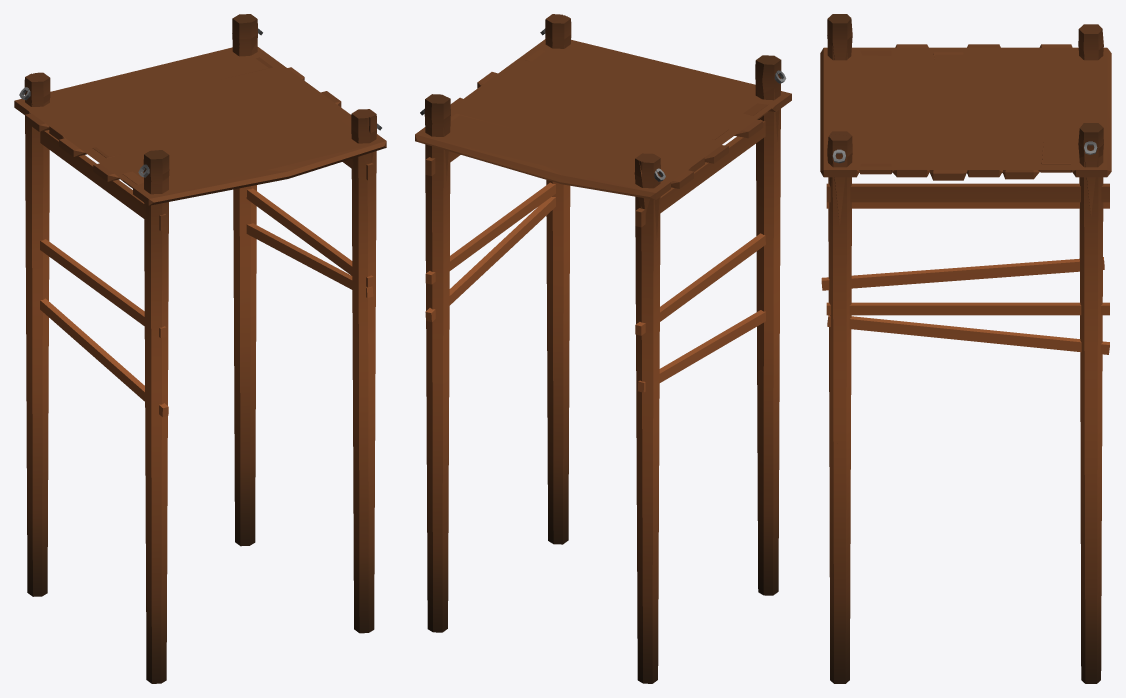
Rendered from Dock 01.fbx.
The picture shows the model from 3 angles, left to right: view 1: azimuth 30°, elevation 25°; view 2: azimuth 150°, elevation 25°; view 3: azimuth 270°, elevation 25°; orthographic projection. The views are drawn at different scales.
Parts seen in each view (by area): view 1: Dock 01 low, Dock 01; view 2: Dock 01 low, Dock 01; view 3: Dock 01 low, Dock 01.
Part boxes in pixels (<box>): Dock 01 low: <box>15,41,386,683</box>; Dock 01: <box>14,14,386,417</box>; Dock 01 low: <box>415,14,791,683</box>; Dock 01: <box>415,14,791,392</box>; Dock 01 low: <box>823,24,1107,683</box>; Dock 01: <box>820,14,1111,354</box>.
Bounding box in the file's own units: 3.84 × 7.69 × 3.66.
1 material, 1 textured.
